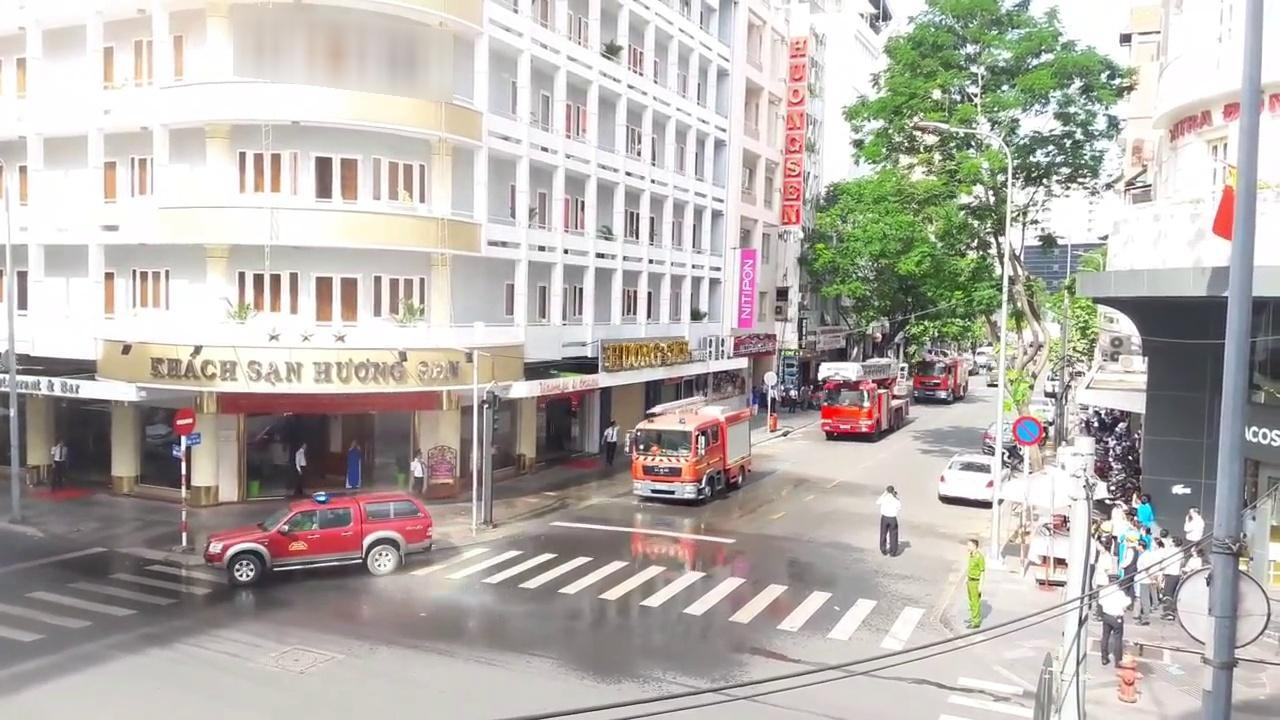xe cuu hoa: (626, 396, 757, 505), (812, 360, 906, 439), (910, 355, 967, 402)
xe hoi: (201, 487, 432, 582), (938, 447, 1008, 505)
